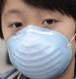with_mask: (1, 2, 76, 79)
